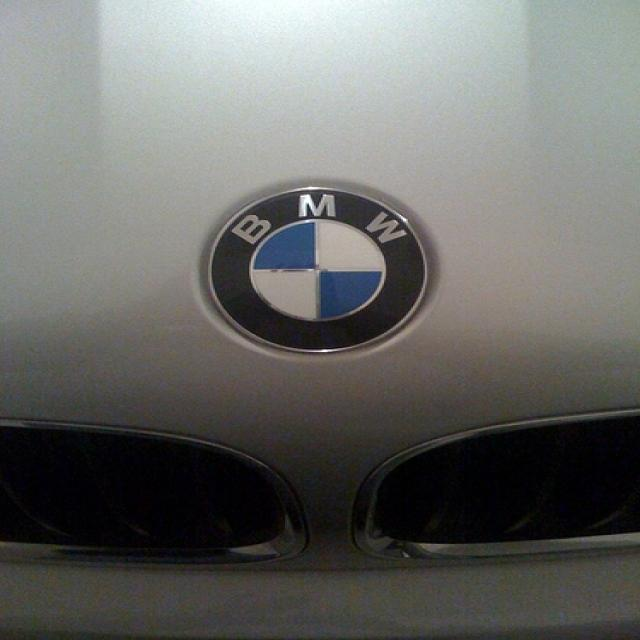bmw: (204, 183, 433, 358)
